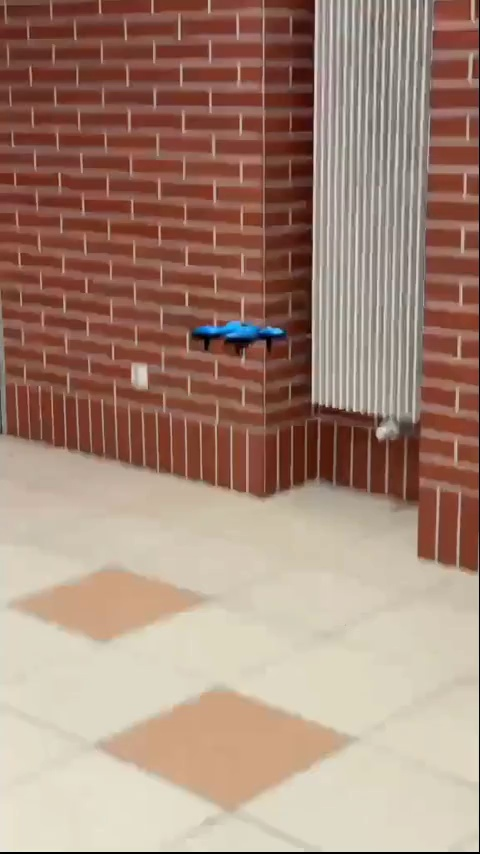drone: (202, 313, 282, 363)
